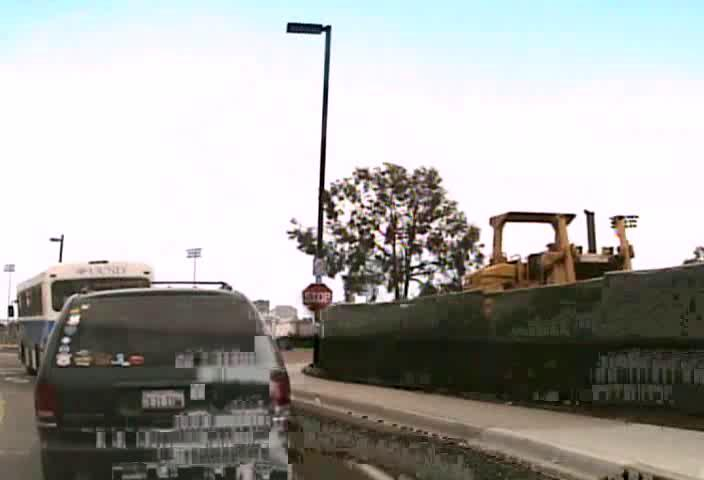stop: (301, 282, 332, 312)
